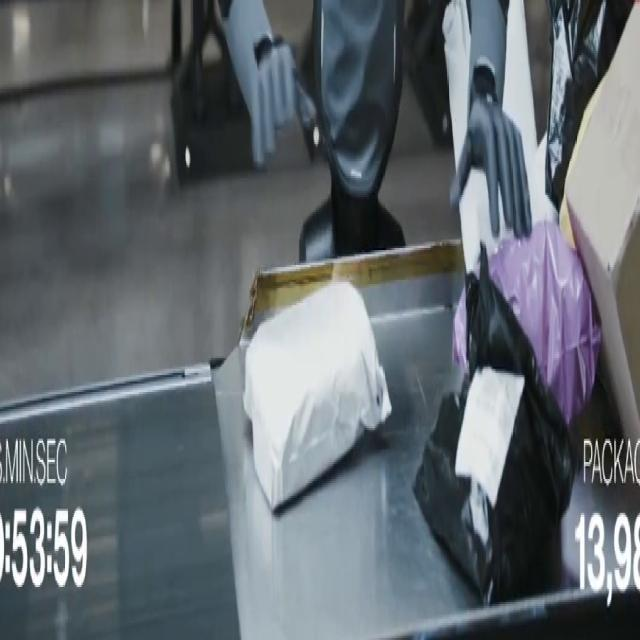package: (414, 248, 576, 603), (244, 282, 391, 510), (567, 5, 639, 440), (489, 223, 601, 423), (546, 0, 633, 207), (503, 0, 557, 224), (567, 77, 605, 180)
